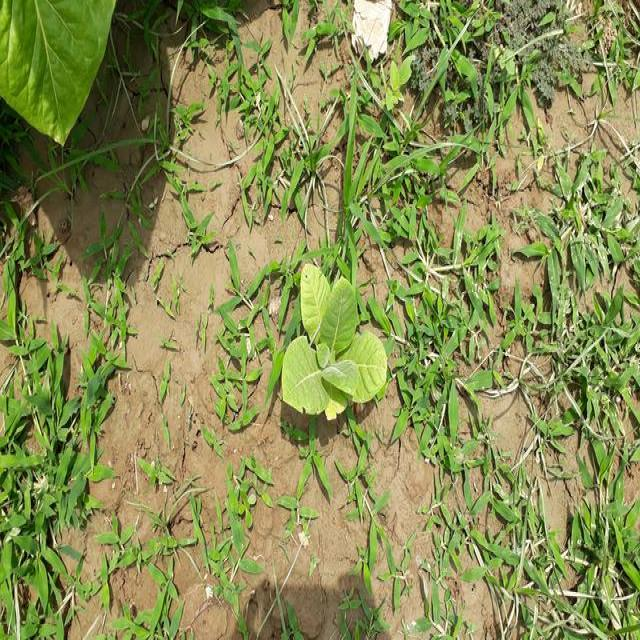crop: (275, 253, 399, 439)
